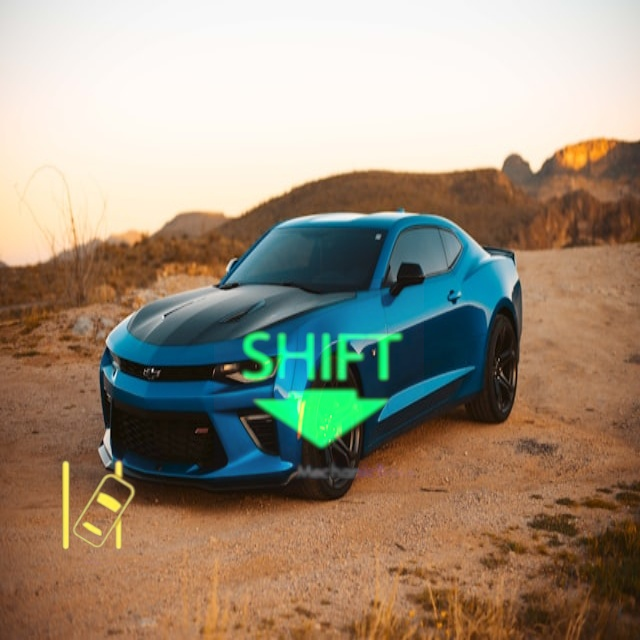symbol: (214, 279, 424, 489), (33, 443, 163, 573)
